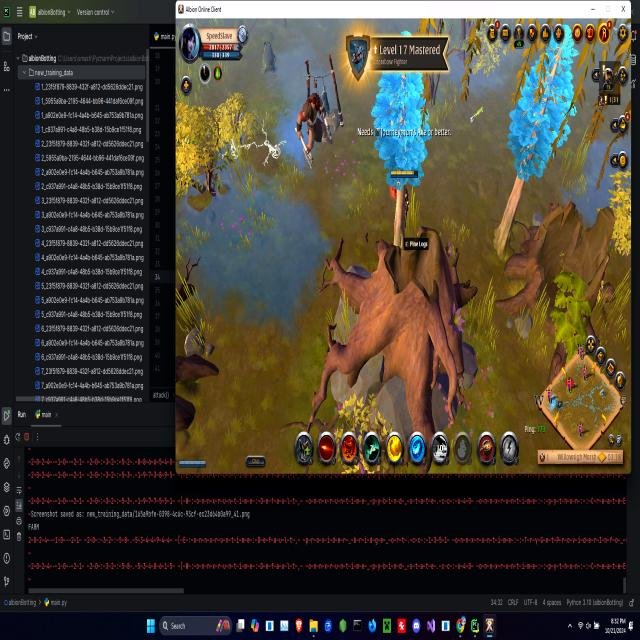ore: (294, 86, 333, 172), (256, 36, 283, 77)
red: (388, 161, 422, 227), (176, 455, 209, 471)
wisp caged: (492, 25, 578, 267), (372, 28, 432, 259)
